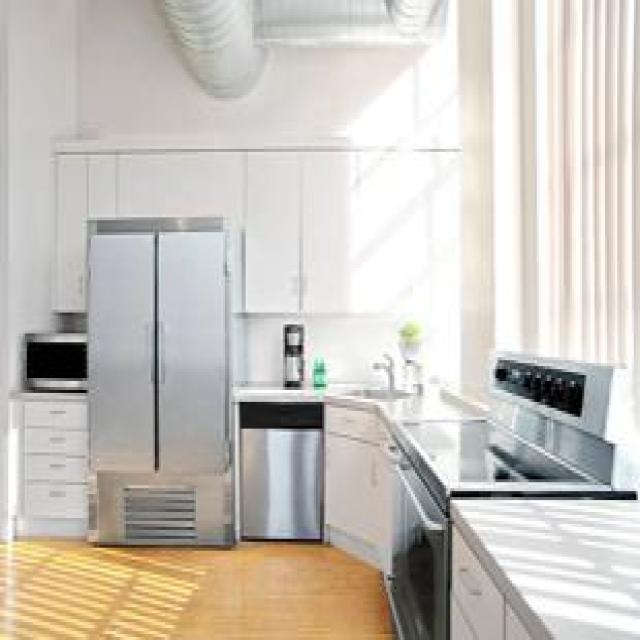dishwasher: (235, 399, 322, 539)
